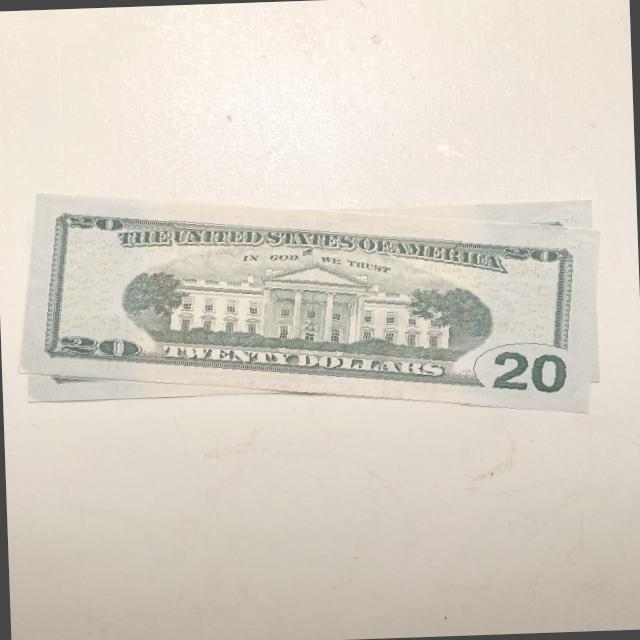twenty: (14, 184, 603, 420)
